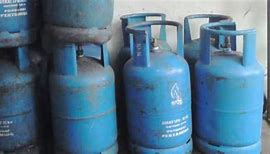blue_gas: (120, 21, 194, 154), (195, 22, 264, 154), (48, 41, 119, 154), (1, 47, 47, 154), (183, 16, 237, 95), (42, 1, 114, 46), (1, 1, 39, 46)
